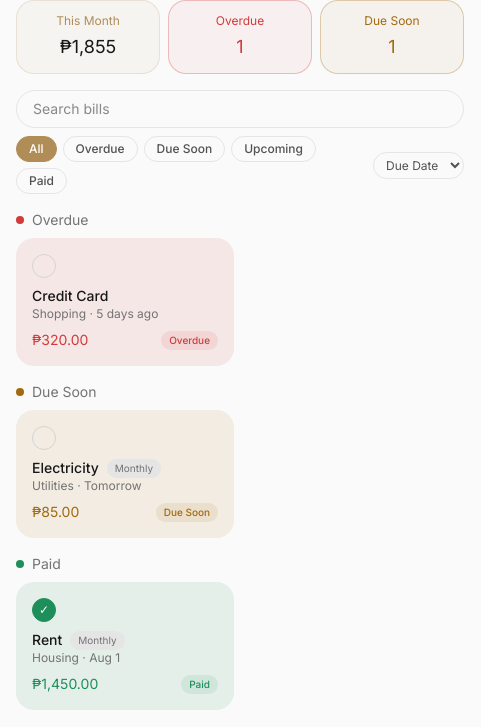
BillsListView › filters rows by search query
Type "electric" into the field with test id "bills-search-input" at {"x": 240, "y": 109}, box [16,90,464,128]
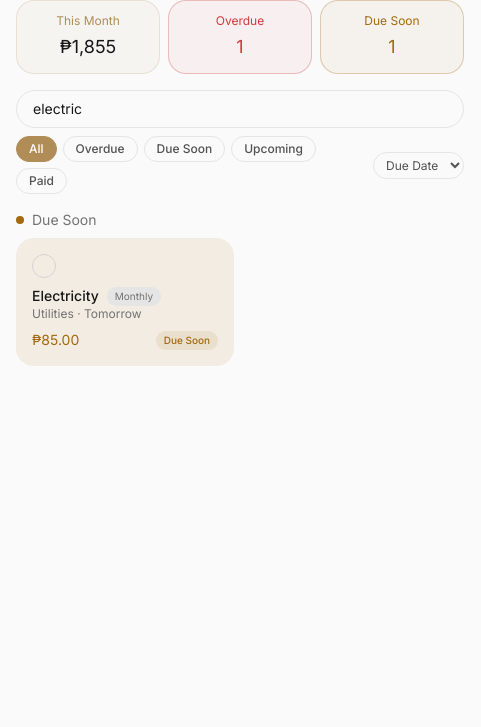
expect the number of elements with test id "bill-row" is 1: met, box [16,238,234,366]
